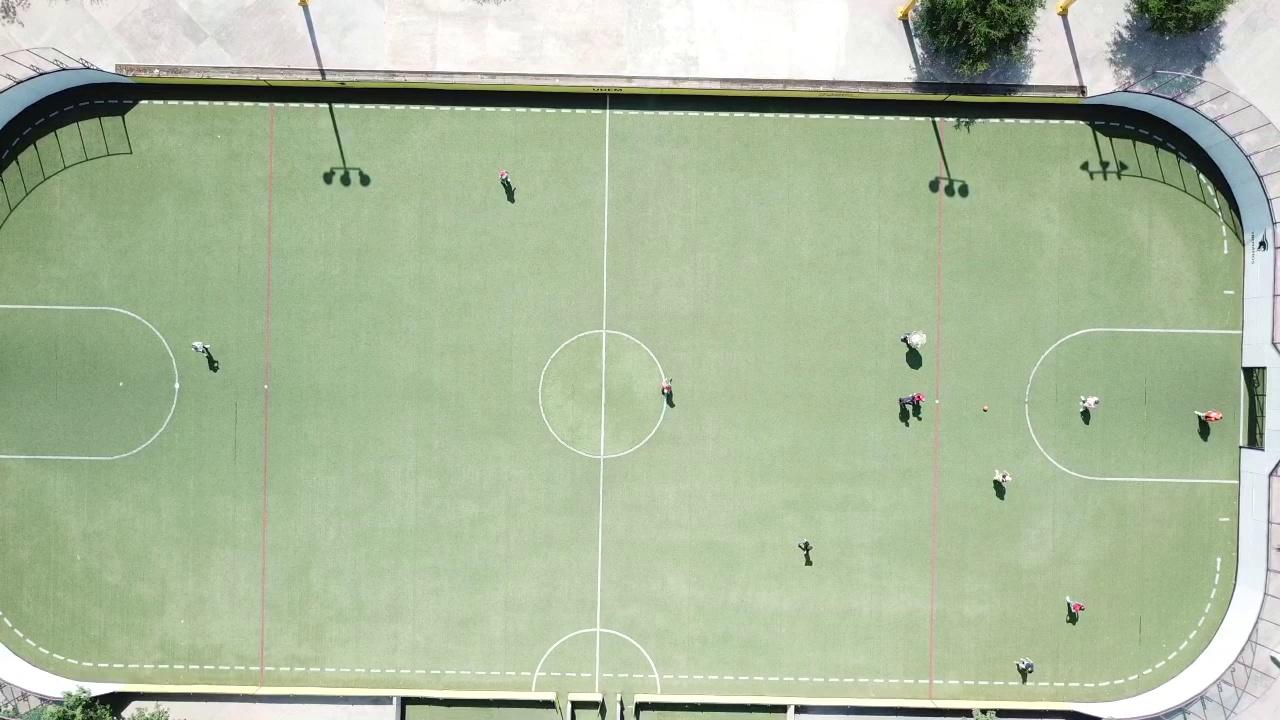ball: (1066, 596, 1072, 604), (983, 405, 988, 411)
player: (901, 330, 925, 349), (1196, 409, 1224, 422), (1066, 596, 1086, 613), (1081, 394, 1101, 410), (1016, 658, 1034, 674), (994, 469, 1012, 483), (661, 376, 673, 395), (798, 538, 814, 552), (191, 341, 208, 354), (499, 169, 511, 187), (912, 393, 924, 405), (900, 395, 912, 407)
